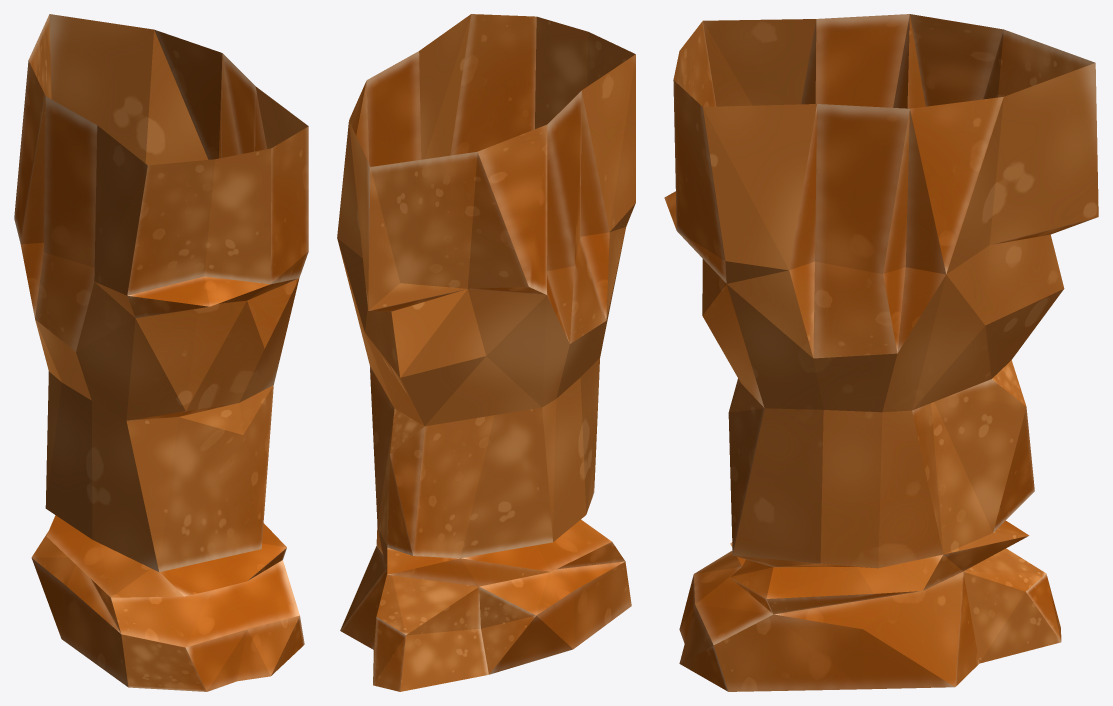
The model's file is CANYON_6.fbx.
The picture shows the model from 3 angles, left to right: view 1: azimuth 30°, elevation 25°; view 2: azimuth 150°, elevation 25°; view 3: azimuth 270°, elevation 25°; orthographic projection. The views are drawn at different scales.
Visible parts, largest first — view 1: Plane.001; view 2: Plane.001; view 3: Plane.001.
Part boxes in pixels (x1,y1,x2,y2): Plane.001: [14, 14, 308, 691]; Plane.001: [337, 14, 635, 691]; Plane.001: [664, 14, 1098, 691].
Size of the model in its own units: 1124 by 2735 by 1840.
Materials: 1 (1 with a texture image).
